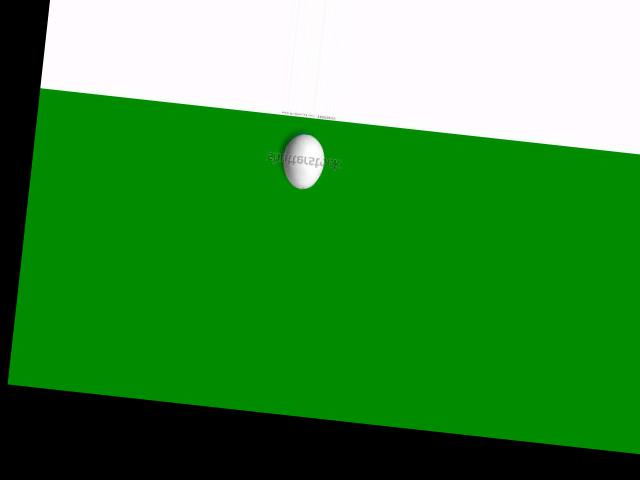egg: (280, 132, 327, 190)
